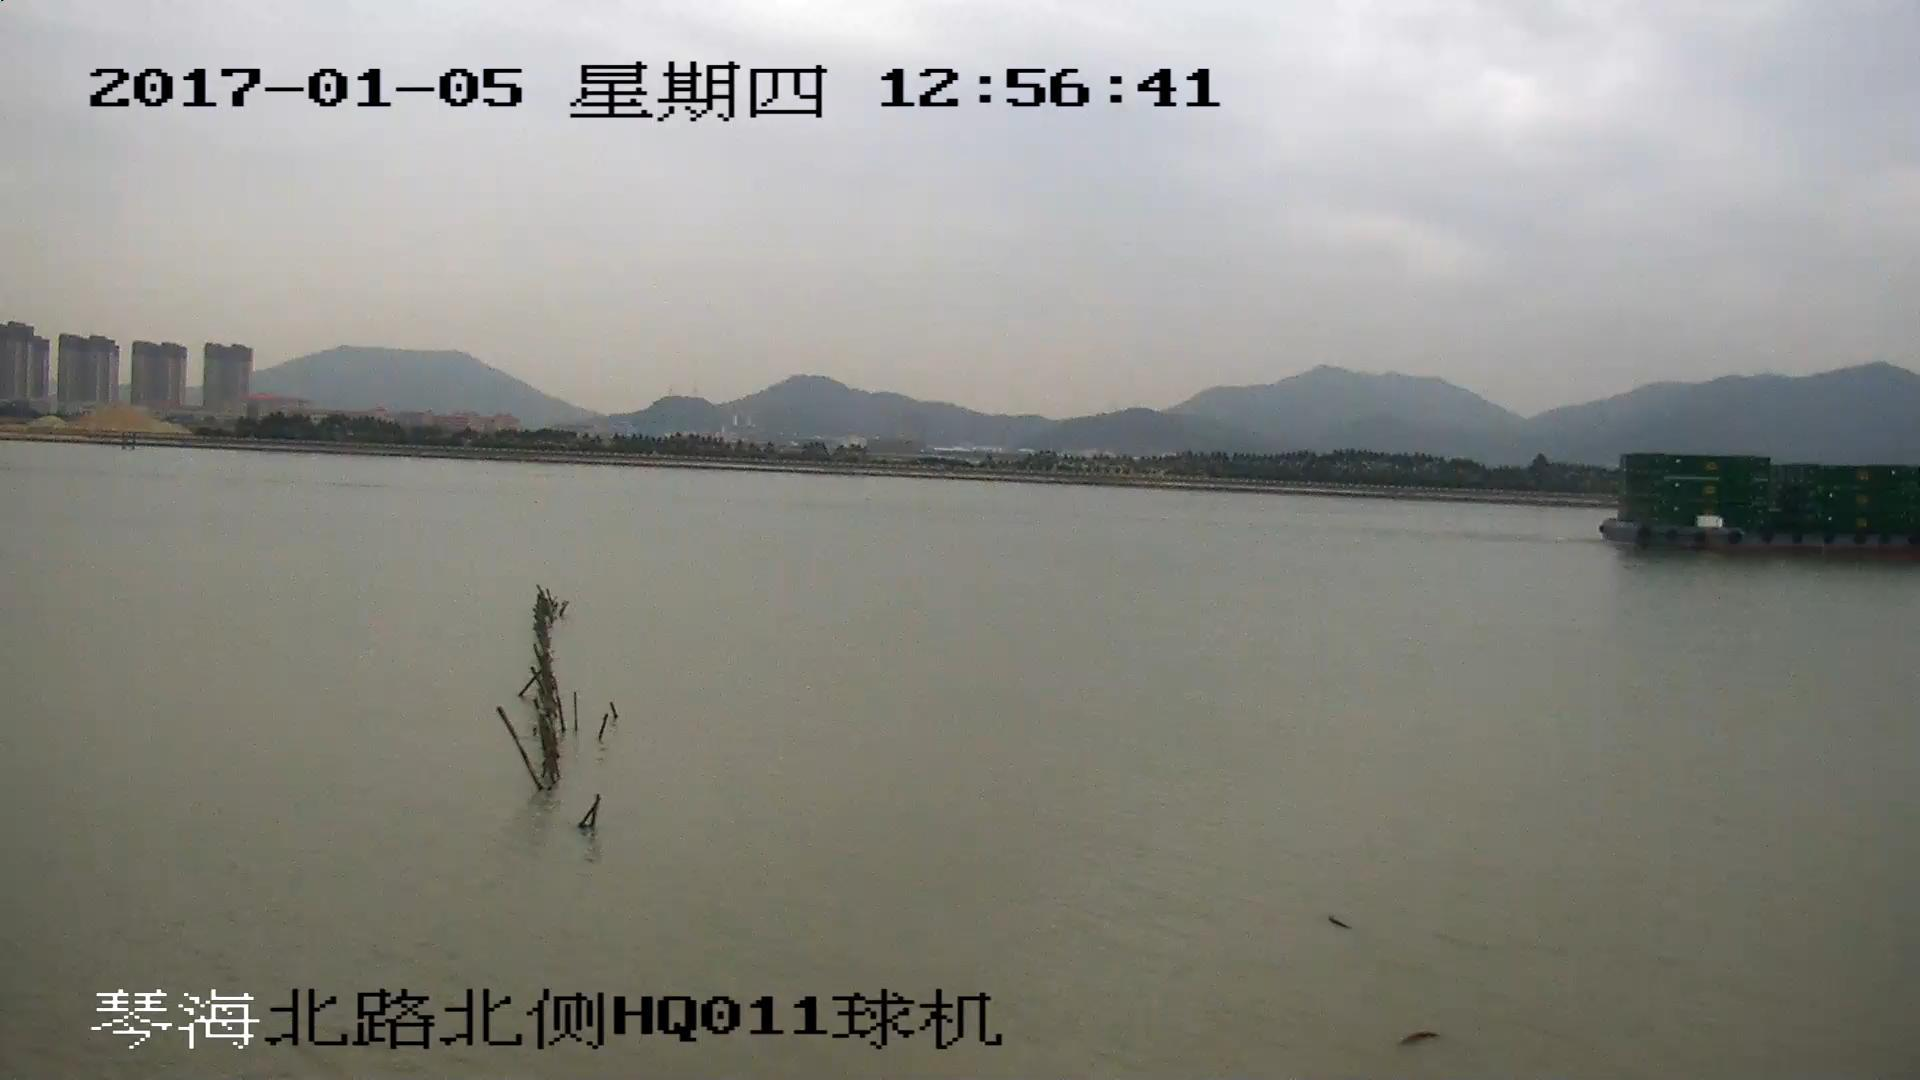Ship: (1611, 454, 1920, 559)
